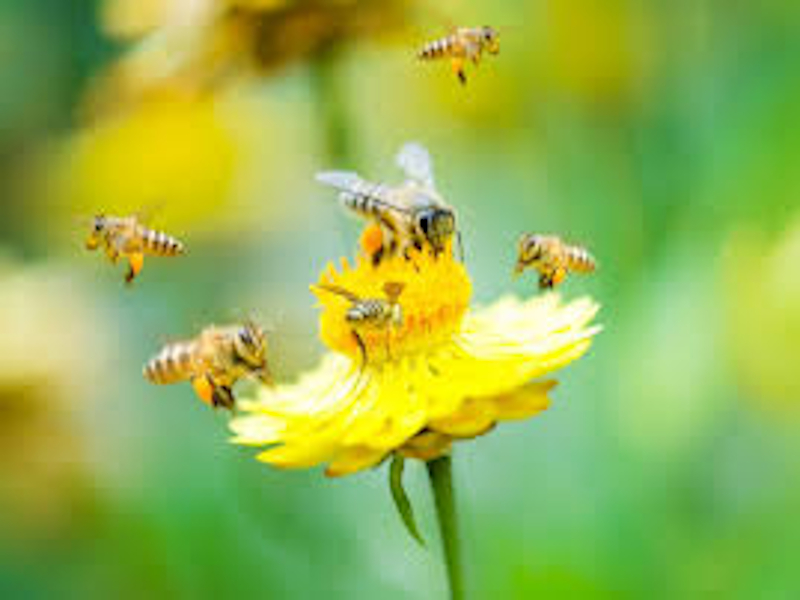abeja: (308, 136, 487, 270), (127, 296, 294, 419), (70, 193, 211, 295), (499, 206, 607, 302), (402, 9, 519, 96)
